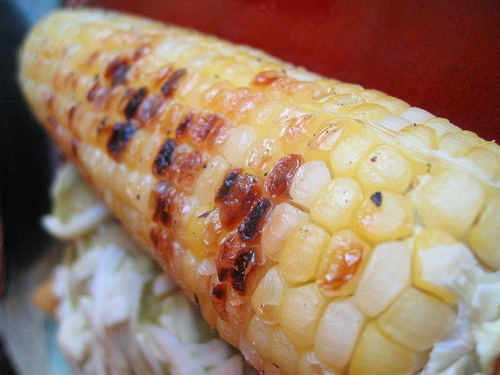corn: (19, 8, 499, 374)
